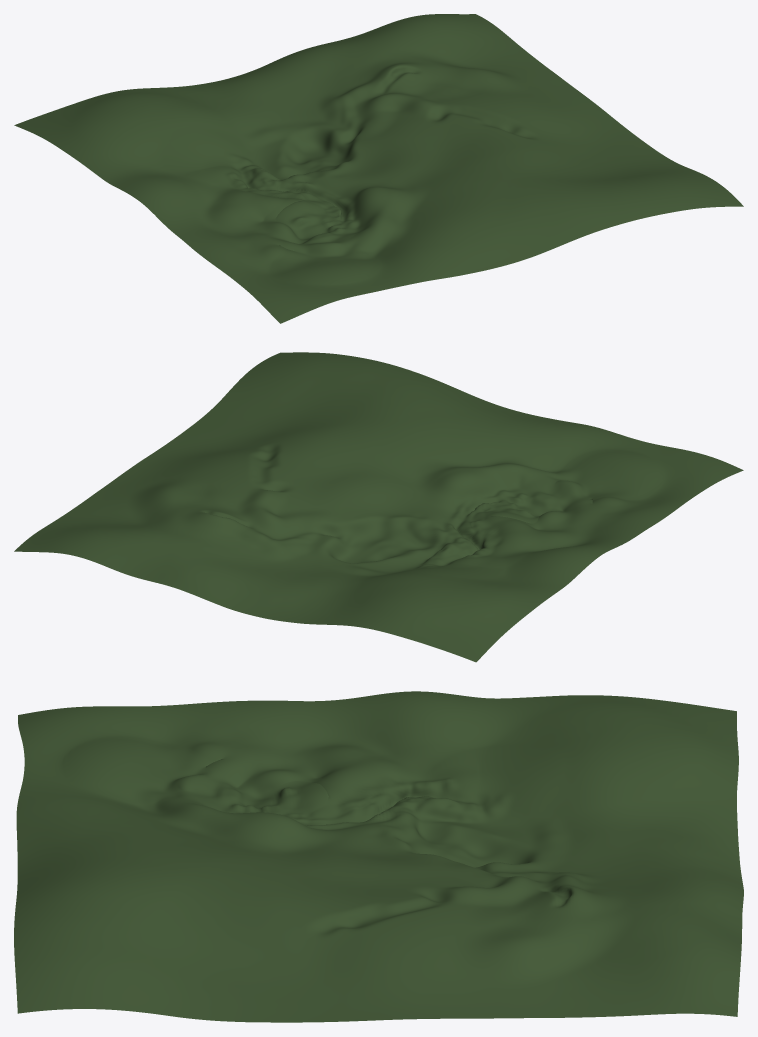
The model's file is terrain_03.glb.
3 renders of one model, top to bottom at view 1: azimuth 30°, elevation 25°; view 2: azimuth 150°, elevation 25°; view 3: azimuth 270°, elevation 25°, orthographic. The views are drawn at different scales.
Visible parts, largest first — view 1: Plane.027; view 2: Plane.027; view 3: Plane.027.
Boxes of the visible parts, x1,y1,x2,y2 form: Plane.027: [14, 14, 743, 323]; Plane.027: [14, 352, 743, 662]; Plane.027: [14, 691, 743, 1022].
Bounding box in the file's own units: 203 × 16.53 × 205.
